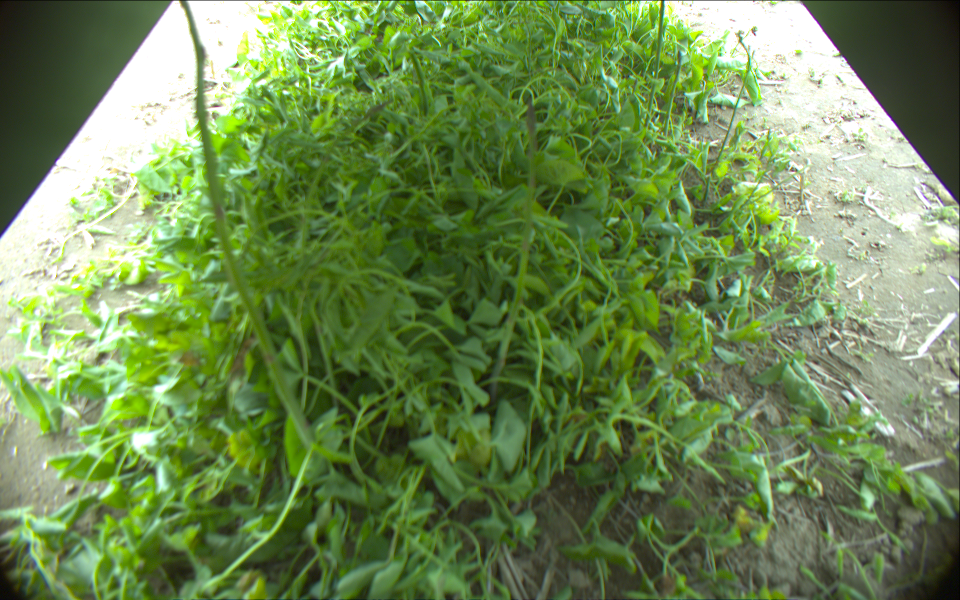aspa: (177, 1, 319, 450), (486, 98, 542, 398), (711, 39, 758, 168), (643, 1, 666, 116), (663, 52, 687, 137)
